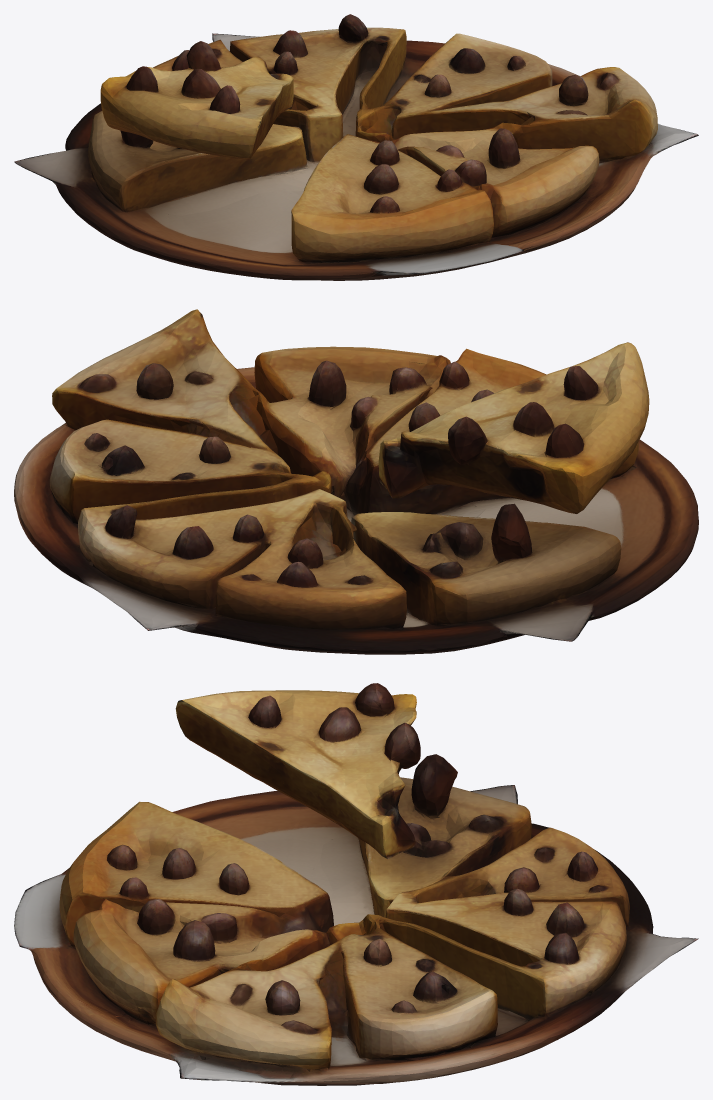
The model's file is chip cokkies.glb.
3 renders of one model, top to bottom at view 1: azimuth 30°, elevation 25°; view 2: azimuth 150°, elevation 25°; view 3: azimuth 270°, elevation 25°, orthographic. The views are drawn at different scales.
Visible parts, largest first — view 1: world; view 2: world; view 3: world.
Part boxes in pixels (<box>): world: <box>14,14,698,280</box>; world: <box>14,309,698,654</box>; world: <box>14,683,698,1085</box>.
Bounding box in the file's own units: 0.9998 × 0.2896 × 0.9738.
Materials: 1 (1 with a texture image).
